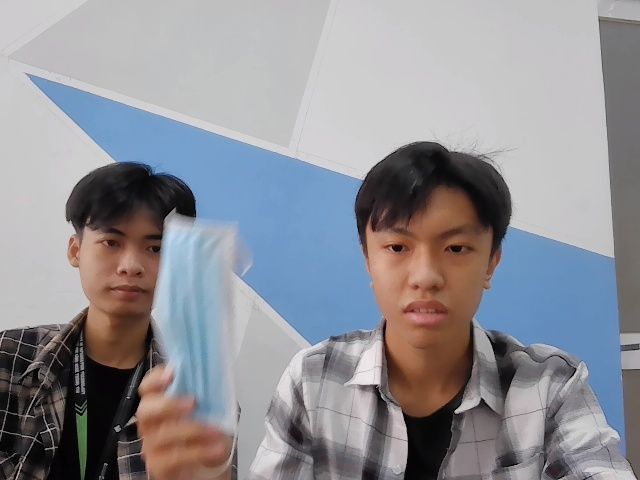human: (351, 141, 515, 354), (61, 164, 196, 319)
mask: (153, 212, 245, 435)
